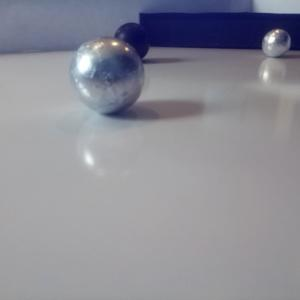zone: (139, 12, 300, 50)
